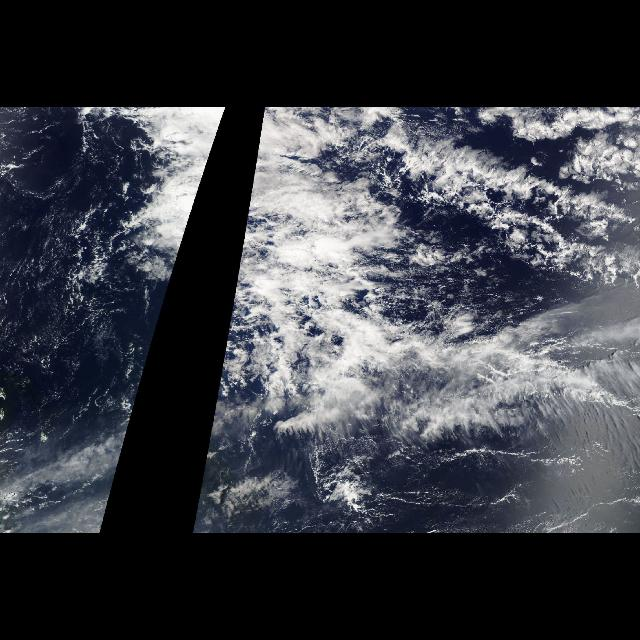Fish: (332, 112, 640, 304)
Sugar: (370, 444, 640, 528)
